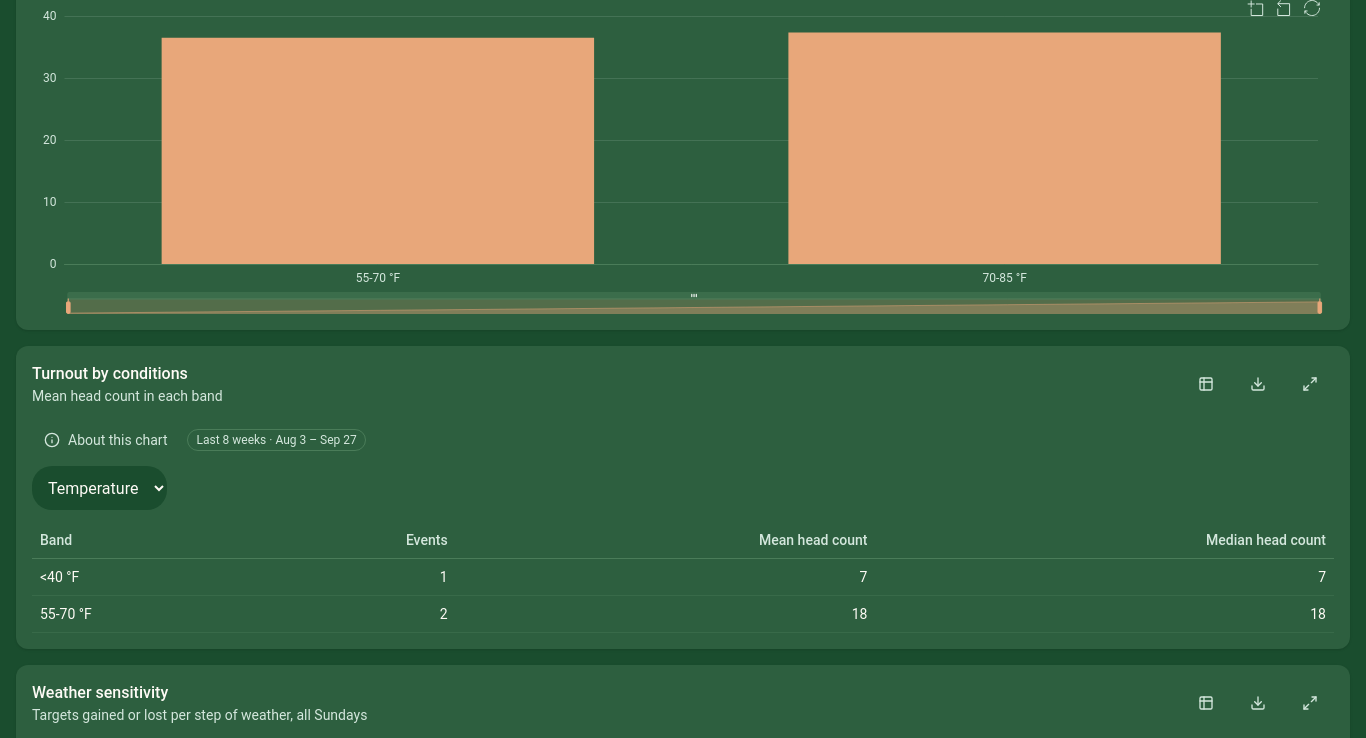
Test: WeatherPage › full data in fullscreen and CSV › turnout by conditions: fullscreen and CSV fetch with no window
(page scrolled)
Click the button named "CSV" in the row of "Mean head count in each band".
click(1258, 384)  # box [1234,362,1282,406]
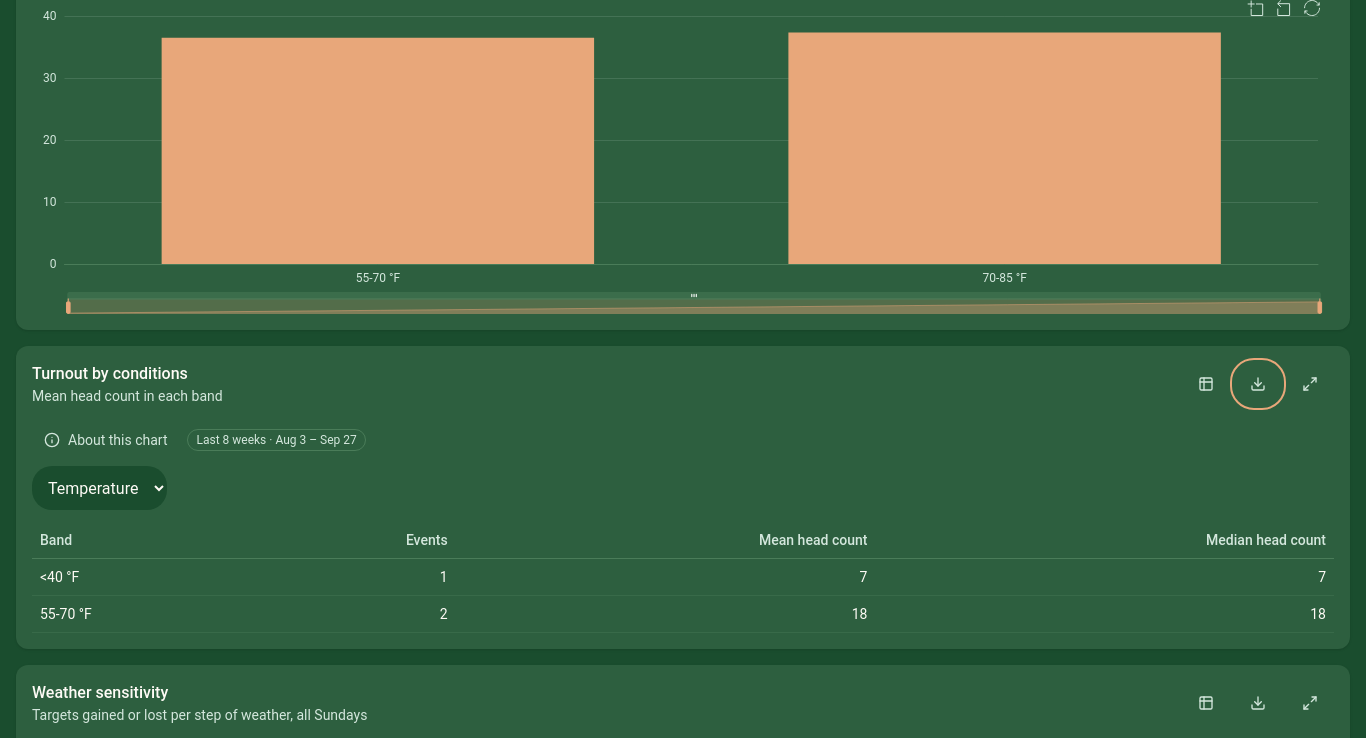
Click the button named "Fullscreen" in the row of "Mean head count in each band".
click(1310, 384)  # box [1286,362,1334,406]
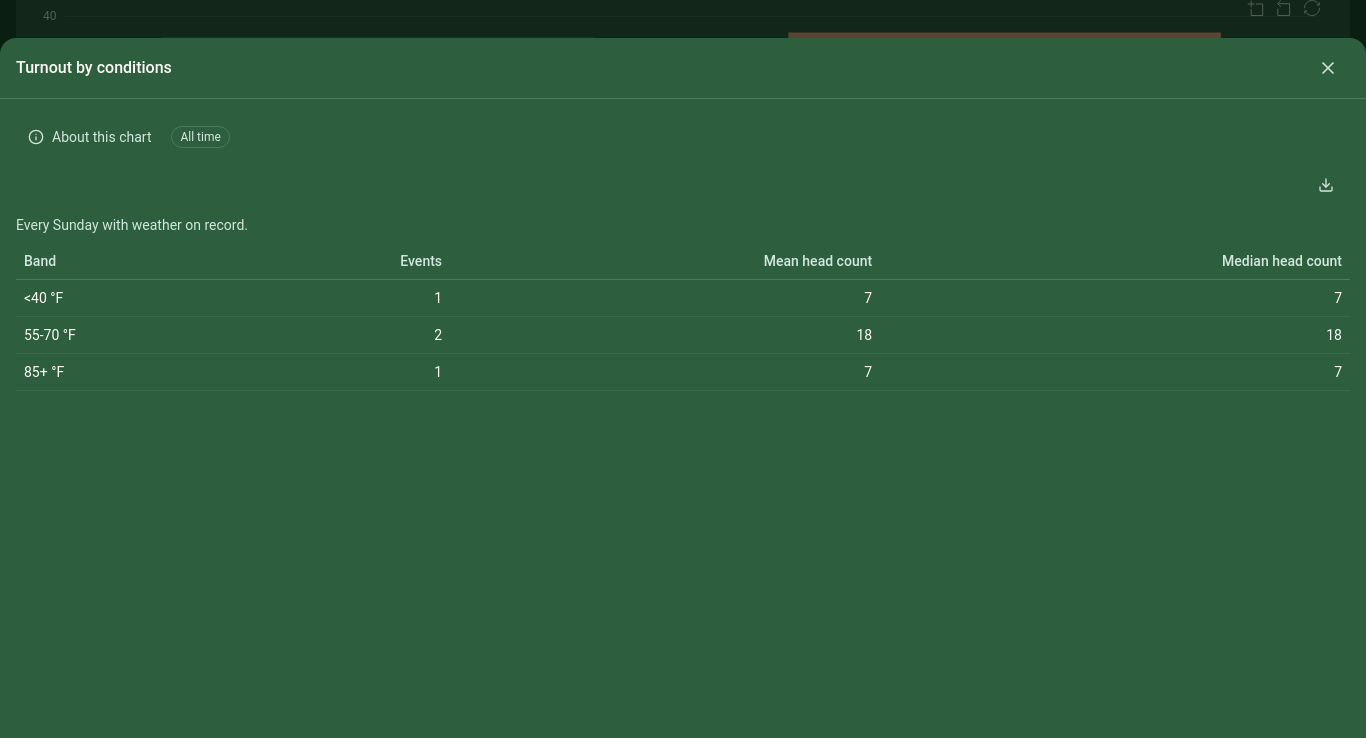
Expected: the number of rows is 4, [16,243,1350,280]; [16,280,1350,317]; [16,317,1350,354]; [16,354,1350,391]
Expected: the text "Every Sunday with weather on record." is shown, [16,217,248,233]
